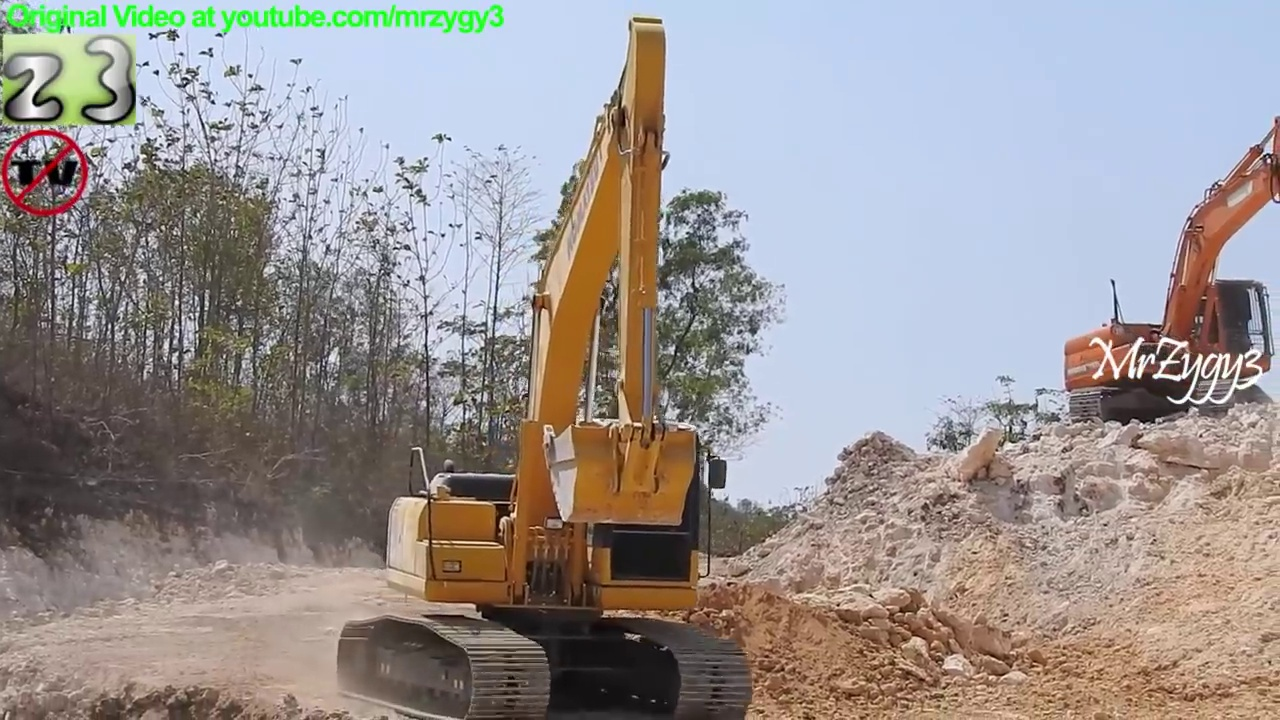excavator: (330, 10, 764, 720), (1057, 112, 1280, 428)
